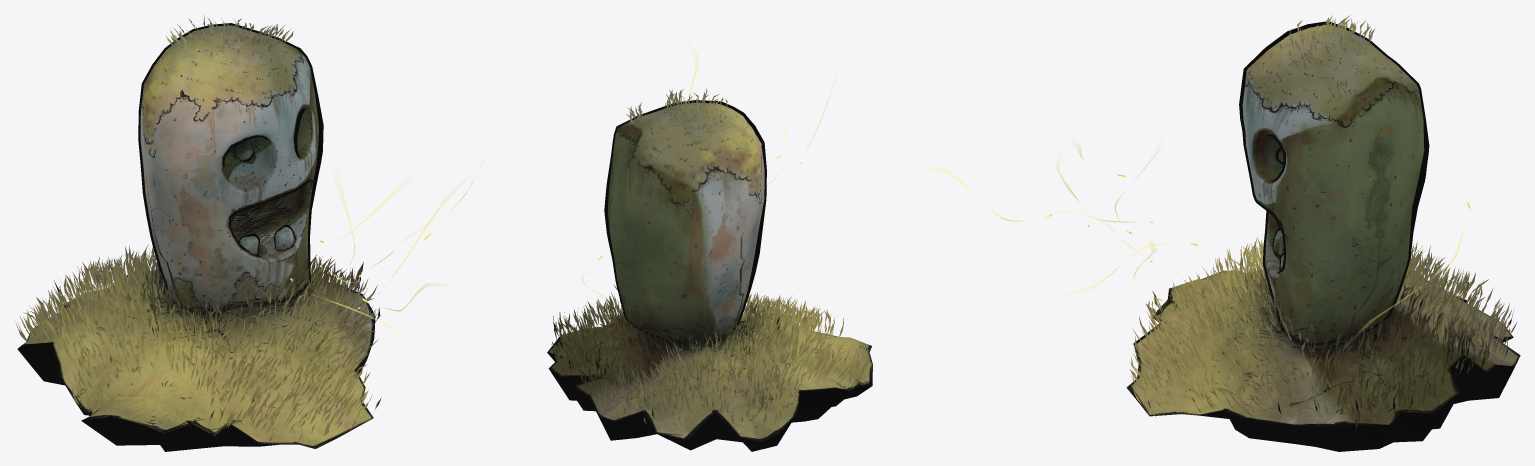
Rendered from trvp.glb.
The picture shows the model from 3 angles, left to right: view 1: azimuth 30°, elevation 25°; view 2: azimuth 150°, elevation 25°; view 3: azimuth 270°, elevation 25°; orthographic projection. The views are drawn at different scales.
Visible parts, largest first — view 1: rock, grass, outline, bugs; view 2: rock, grass, outline, bugs; view 3: rock, grass, outline, bugs.
Part boxes in pixels (x1,y1,x2,y2): rock: (22,25,375,448); grass: (15,15,381,441); outline: (17,23,366,451); bugs: (290,160,484,334); rock: (547,102,872,442); grass: (551,87,872,426); outline: (547,100,871,451); bugs: (582,38,834,298); rock: (1126,24,1520,427); grass: (1129,15,1516,429); outline: (1153,21,1514,451); bugs: (930,144,1470,337).
Bounding box in the file's own units: 2.48 × 2.38 × 3.72.
Materials: 4 (3 with a texture image).
